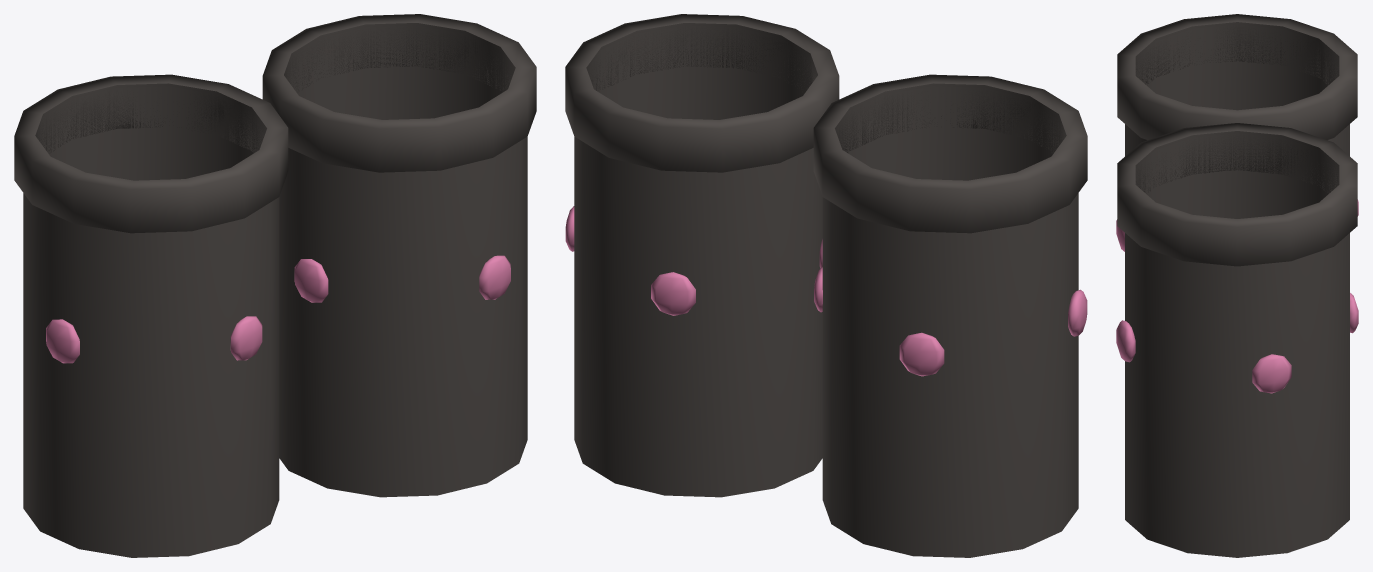
Rendered from running_tights.glb.
The picture shows the model from 3 angles, left to right: view 1: azimuth 30°, elevation 25°; view 2: azimuth 150°, elevation 25°; view 3: azimuth 270°, elevation 25°; orthographic projection. The views are drawn at different scales.
Parts seen in each view (by area): view 1: running_tights_LegL, running_tights_LegR; view 2: running_tights_LegL, running_tights_LegR; view 3: running_tights_LegR, running_tights_LegL.
Boxes of the visible parts, x1=… form: running_tights_LegL: x1=14, y1=74, x2=288, y2=557; running_tights_LegR: x1=262, y1=14, x2=536, y2=497; running_tights_LegL: x1=813, y1=74, x2=1087, y2=557; running_tights_LegR: x1=565, y1=14, x2=839, y2=497; running_tights_LegR: x1=1116, y1=123, x2=1358, y2=557; running_tights_LegL: x1=1116, y1=14, x2=1358, y2=251.
Bounding box in the file's own units: 0.372 × 0.272 × 0.1789.
